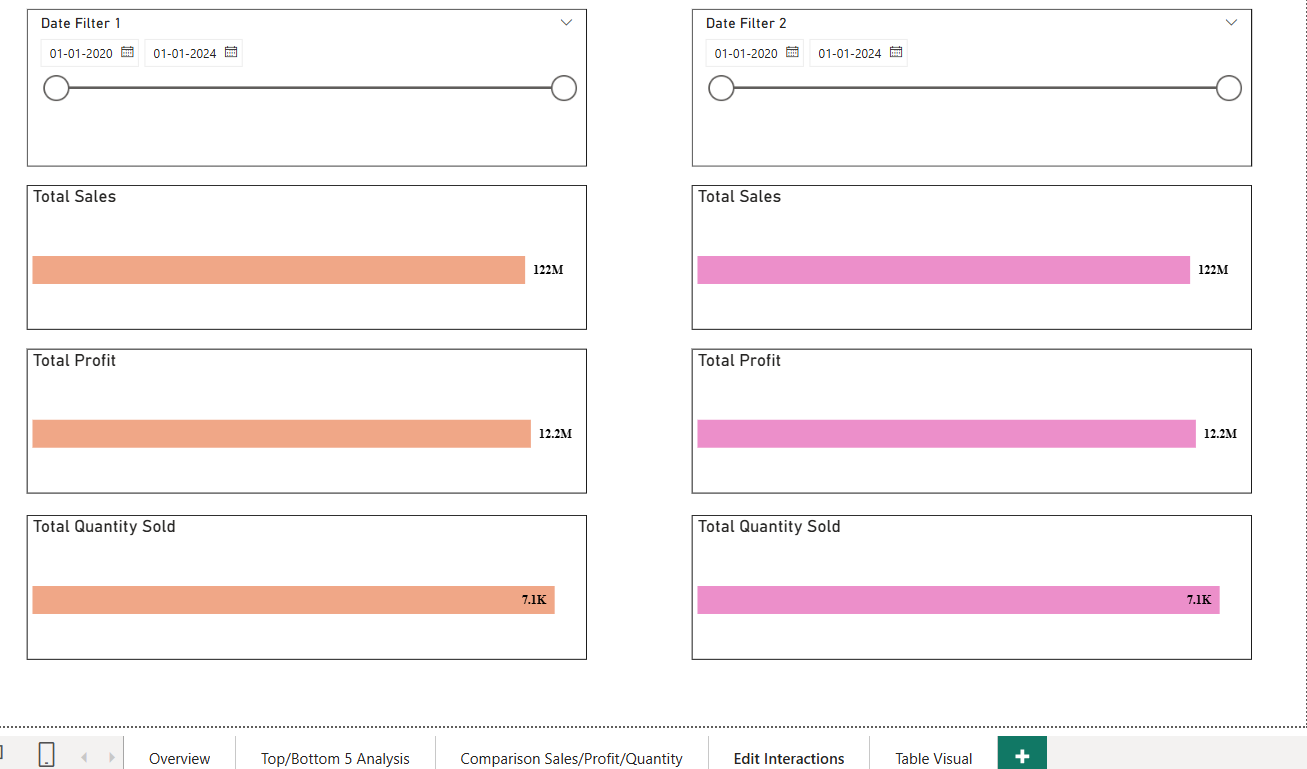

The page's visual inventory and layout, read from the dashboard file:
{"tool":"powerbi","page":{"name":"Edit Interactions","canvas":[1280,720],"ordinal":3},"visuals":[{"type":"slicer","fields":{"Values":["Fact Table.Date (dd/mm/yyyy)"]},"box":[28.1,18.3,547.8,154.1],"z":0},{"type":"slicer","fields":{"Values":["Fact Table.Date (dd/mm/yyyy)"]},"box":[678.7,18.3,547.8,154.1],"z":1000},{"type":"barChart","title":"Total Sales","fields":{"Y":["Sum(Fact Table.Net Sales)"]},"box":[28.1,190.8,547.8,141.8],"z":2000},{"type":"barChart","title":"Total Profit","fields":{"Y":["Sum(Fact Table.Profit)"]},"box":[28.1,351,547.8,141.8],"z":3000},{"type":"barChart","title":"Total Quantity Sold","fields":{"Y":["Sum(Fact Table.Units Sold)"]},"box":[28.1,513.6,547.8,141.8],"z":4000},{"type":"barChart","title":"Total Sales","fields":{"Y":["Sum(Fact Table.Net Sales)"]},"box":[678.7,190.8,547.8,141.8],"z":5000},{"type":"barChart","title":"Total Profit","fields":{"Y":["Sum(Fact Table.Profit)"]},"box":[678.7,351,547.8,141.8],"z":6000},{"type":"barChart","title":"Total Quantity Sold","fields":{"Y":["Sum(Fact Table.Units Sold)"]},"box":[678.7,513.6,547.8,141.8],"z":7000}]}

Visuals, with their boxes in screenshot pixels (x1, y1, x2, y2):
slicer - Fact Table.Date (dd/mm/yyyy): (x1=35, y1=12, x2=587, y2=167)
slicer - Fact Table.Date (dd/mm/yyyy): (x1=690, y1=12, x2=1242, y2=167)
"Total Sales" barChart: (x1=35, y1=185, x2=587, y2=328)
"Total Profit" barChart: (x1=35, y1=347, x2=587, y2=489)
"Total Quantity Sold" barChart: (x1=35, y1=510, x2=587, y2=653)
"Total Sales" barChart: (x1=690, y1=185, x2=1242, y2=328)
"Total Profit" barChart: (x1=690, y1=347, x2=1242, y2=489)
"Total Quantity Sold" barChart: (x1=690, y1=510, x2=1242, y2=653)
